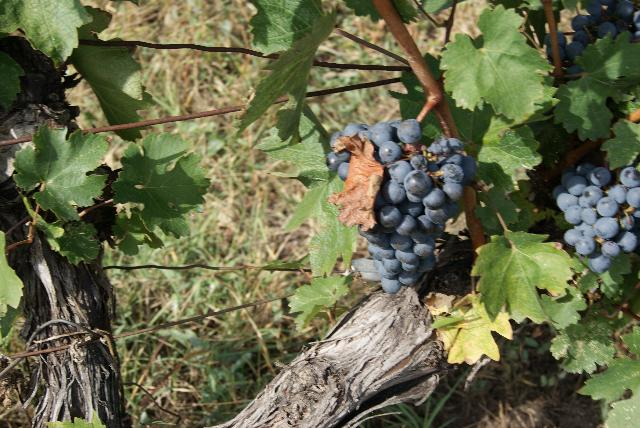grapes: (331, 119, 476, 294), (328, 151, 350, 179)
